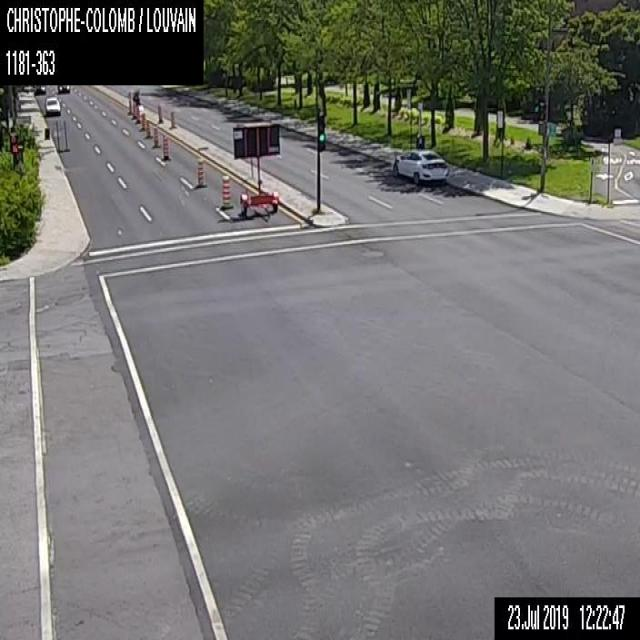construction: (230, 119, 280, 213), (219, 172, 233, 209), (194, 156, 206, 186), (60, 119, 70, 152), (52, 119, 61, 152), (161, 135, 170, 160), (152, 126, 160, 146), (144, 119, 152, 138), (156, 103, 163, 122), (139, 112, 145, 130), (130, 102, 136, 119), (169, 110, 175, 127), (126, 98, 132, 114), (134, 106, 140, 122)
vehicle: (392, 147, 449, 184), (44, 94, 60, 115), (34, 84, 46, 95), (57, 84, 70, 93)
